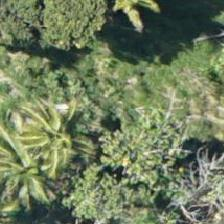coconut_tree: (7, 89, 97, 179), (77, 0, 167, 47)
